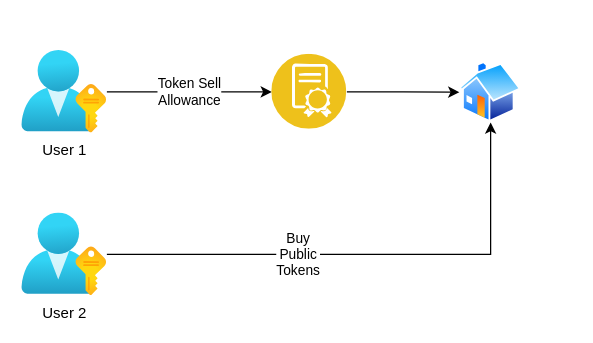
This 593x343 diagram has some shape labels left out. Each missing label, with the centre of its shape:
"EIP1155" goes at pixel 308 91.
"RWA Public Sell # Fragments" goes at pixel 490 91.
